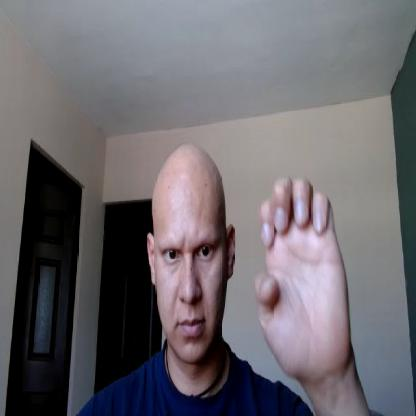E: (254, 173, 352, 380)
